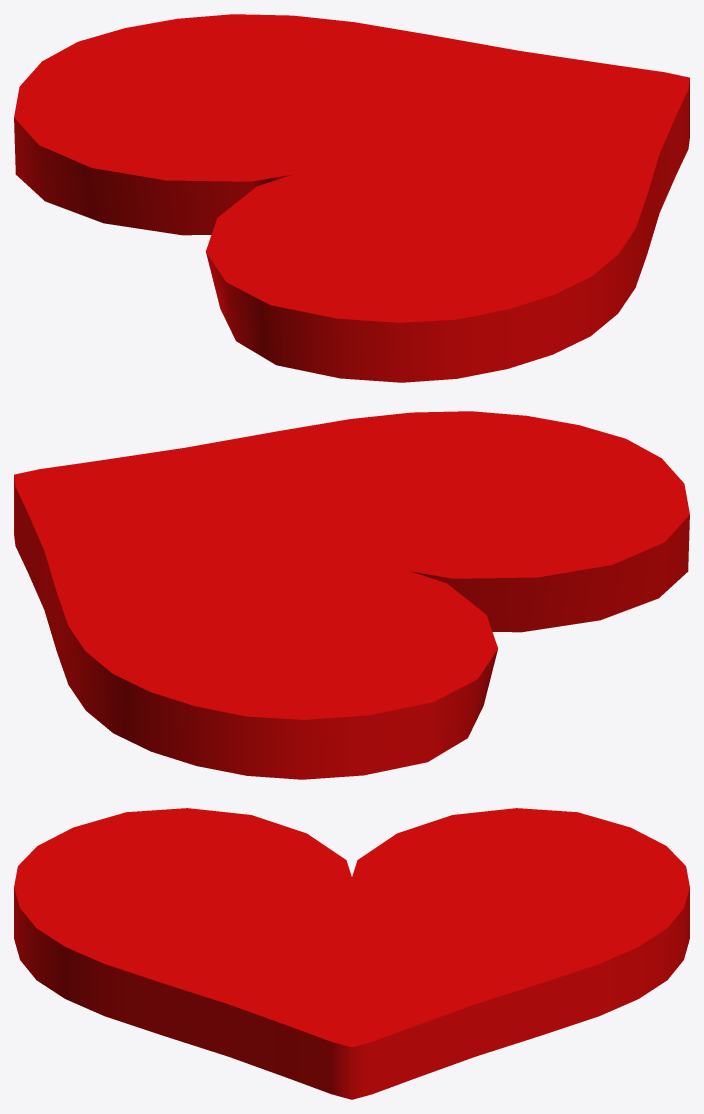
The model's file is heart.fbx.
The picture shows the model from 3 angles, top to bottom: view 1: azimuth 30°, elevation 25°; view 2: azimuth 150°, elevation 25°; view 3: azimuth 270°, elevation 25°; orthographic projection. The views are drawn at different scales.
Parts seen in each view (by area): view 1: pasted__pCylinder4; view 2: pasted__pCylinder4; view 3: pasted__pCylinder4.
Boxes of the visible parts, left/top/right/bottom form: pasted__pCylinder4: left=14, top=14, right=689, bottom=382; pasted__pCylinder4: left=14, top=411, right=689, bottom=779; pasted__pCylinder4: left=14, top=808, right=689, bottom=1099.
Size of the model in its own units: 1.75 by 0.1784 by 2.08.
